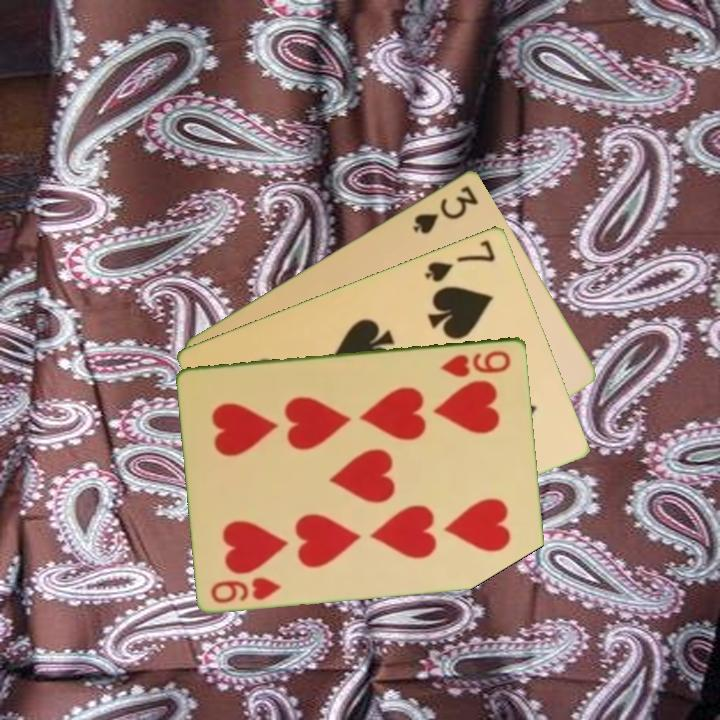3s: (409, 181, 482, 237)
7s: (421, 235, 499, 285)
9h: (437, 346, 514, 380), (208, 573, 284, 606)
